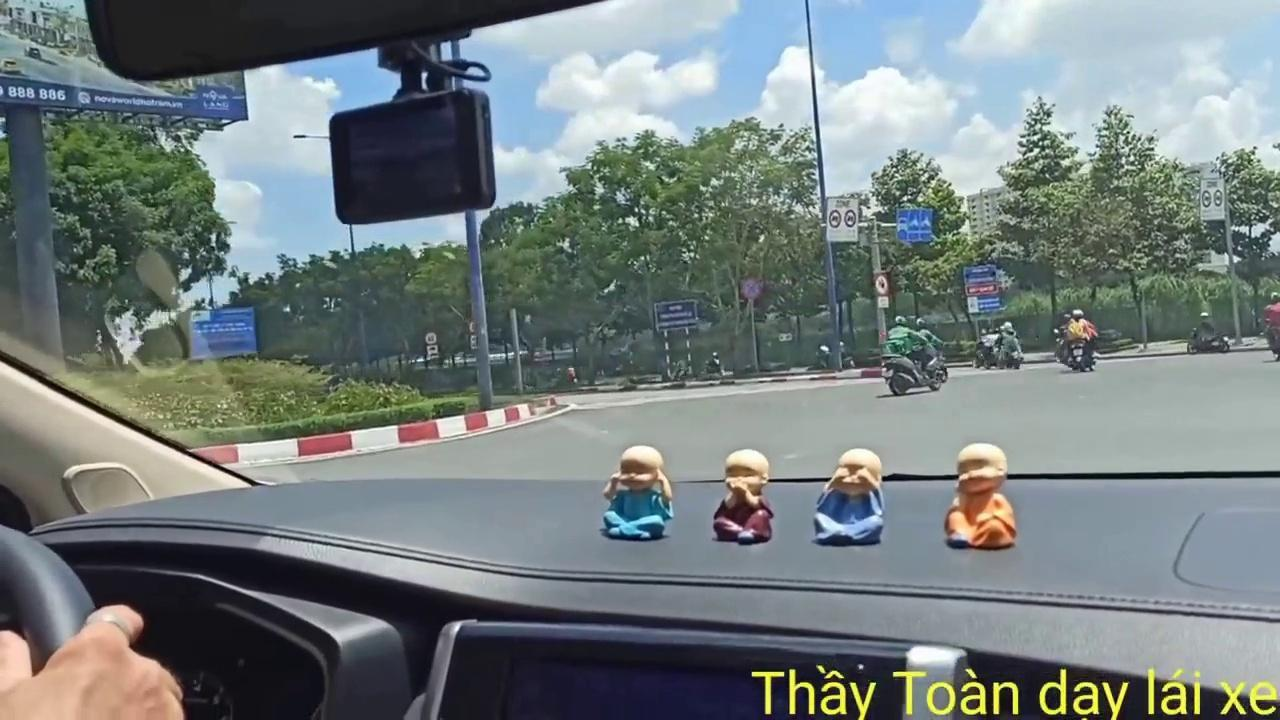Biển phụ: (426, 344, 440, 362)
Cấm cac phương tiện hoạt động trong khung giờ cố định: (825, 194, 862, 245)
Cấm dừng - Cấm đỗ: (739, 275, 761, 301)
Cấm xe máy: (872, 272, 891, 296)
Khác: (186, 304, 259, 362), (962, 262, 1004, 315)
Làn đường cho từng xe: (893, 204, 936, 245)
